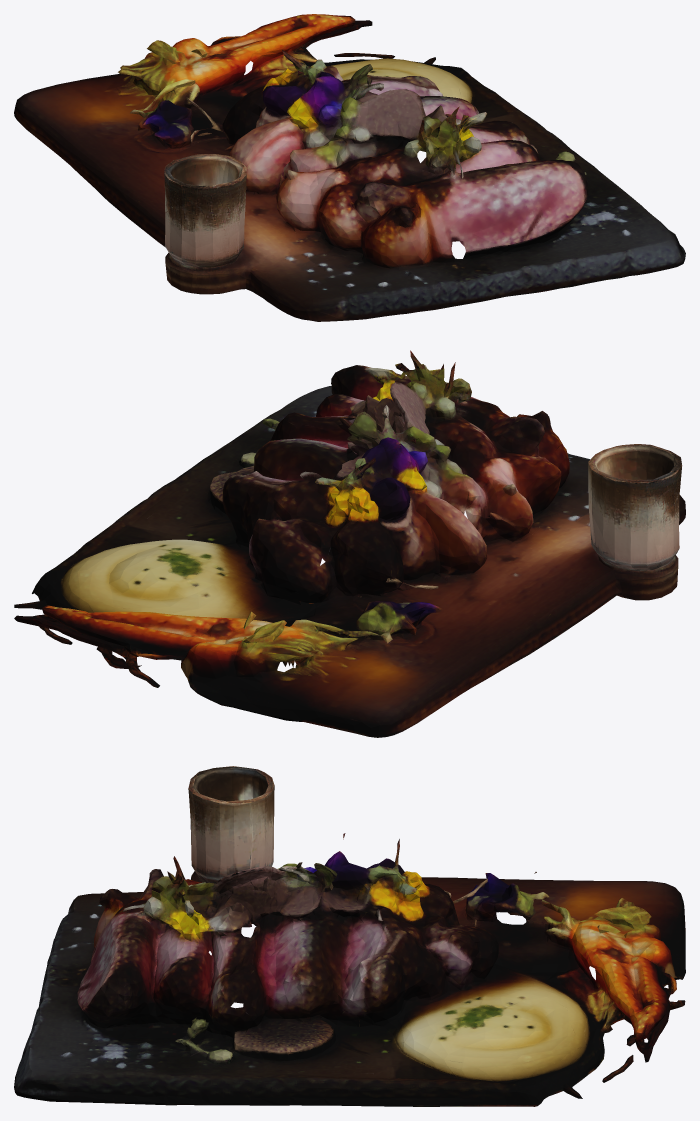
Rendered from wagyu-a5.glb.
3 views of the same model, one above another, from view 1: azimuth 30°, elevation 25°; view 2: azimuth 150°, elevation 25°; view 3: azimuth 270°, elevation 25° (orthographic). The views are drawn at different scales.
Parts seen in each view (by area): view 1: world; view 2: world; view 3: world.
Part boxes in pixels (bbox=[...]): world: bbox=[14, 14, 685, 321]; world: bbox=[14, 350, 685, 737]; world: bbox=[14, 766, 685, 1106].
Size of the model in its own units: 0.2219 by 0.0678 by 0.28.
1 material, 1 textured.
